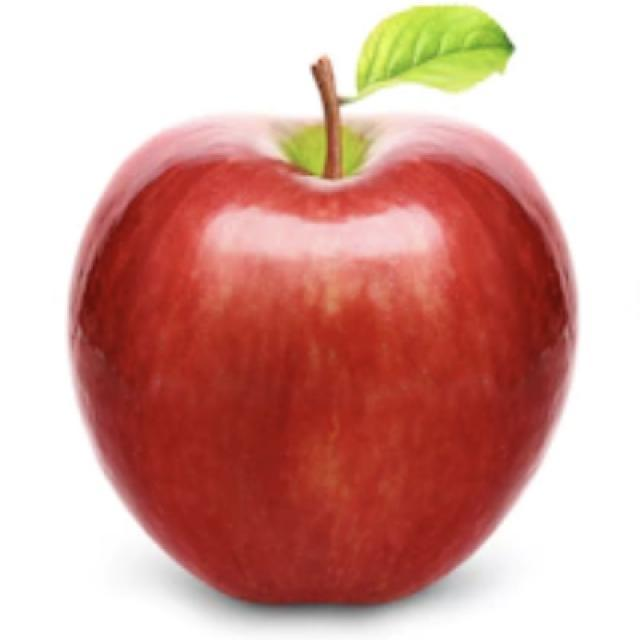Fresh Apple: (50, 111, 561, 640)
